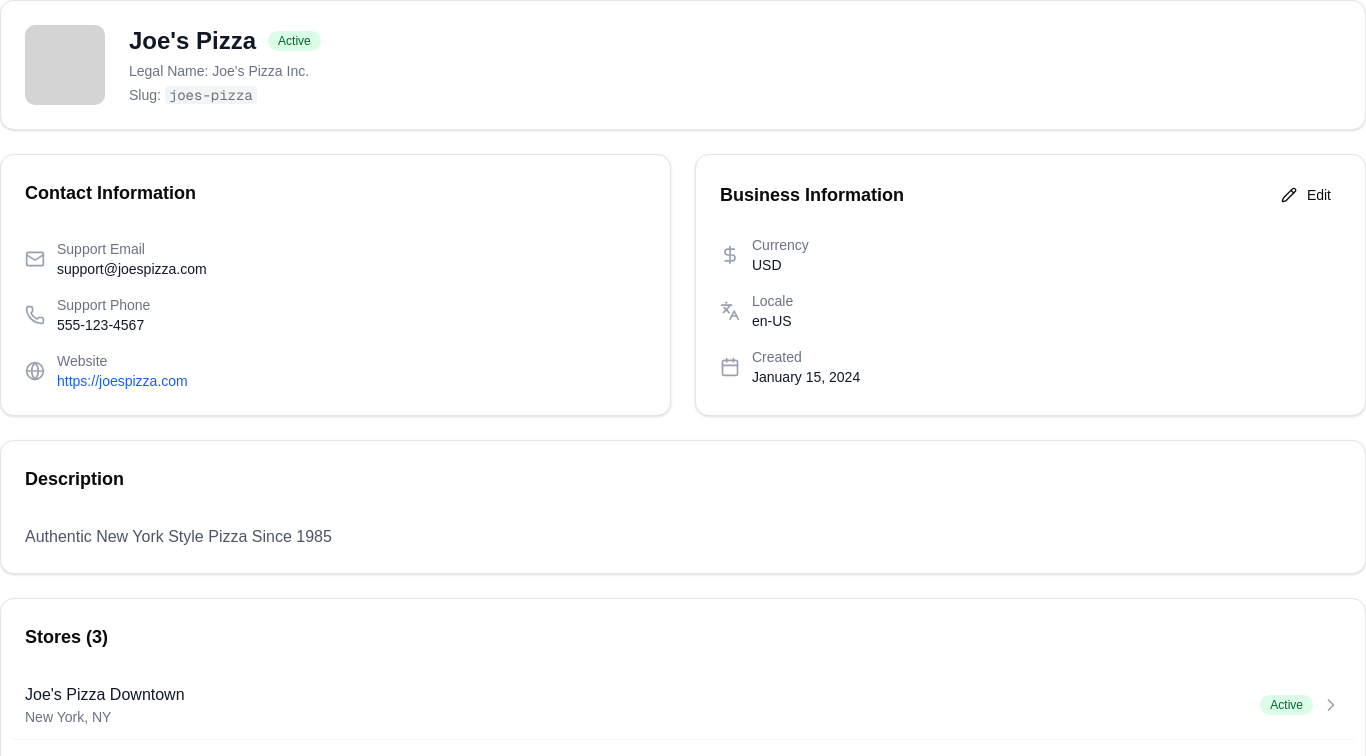
Scenario: TenantInfoCard › Edit Settings › should close settings modal when cancel is clicked
Step 1. Click the button "Edit" → (1306, 195), box [1271, 179, 1341, 211]
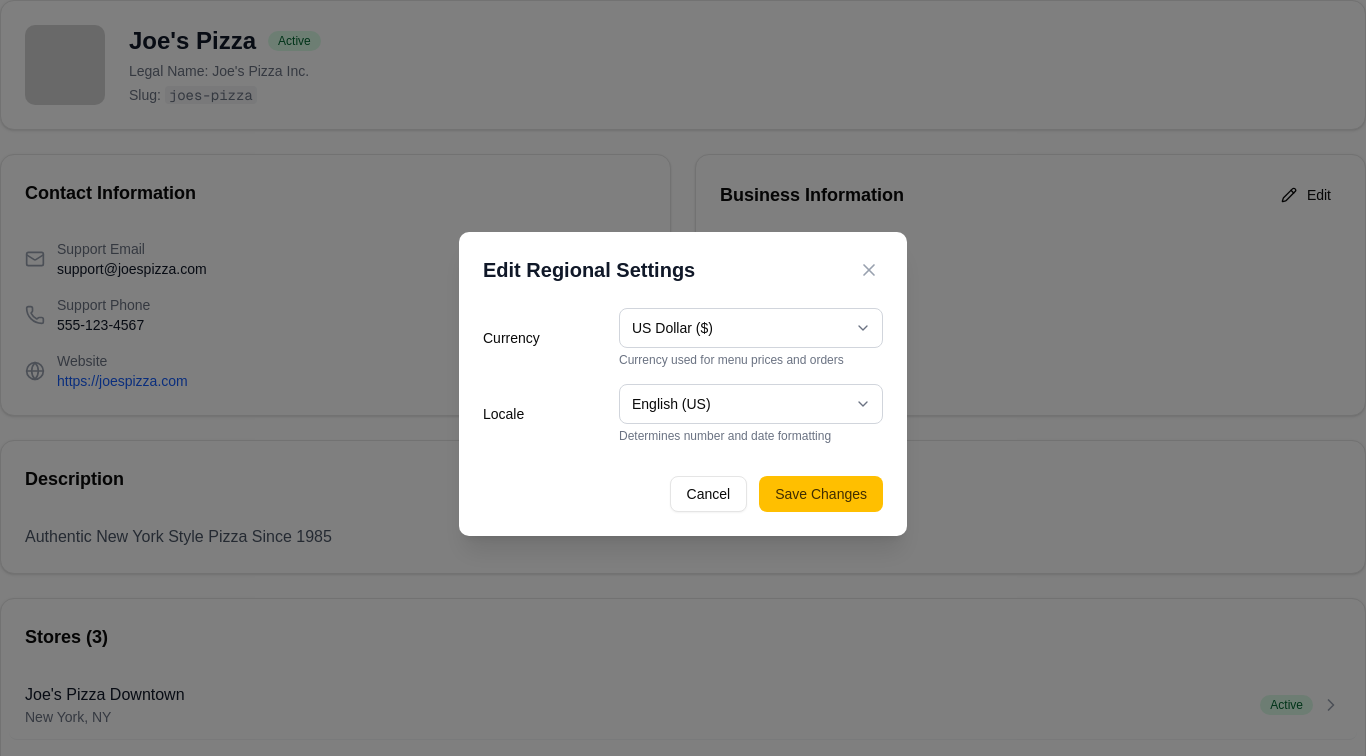
Step 2. Click the button "Cancel" → (708, 494), box [670, 476, 747, 512]
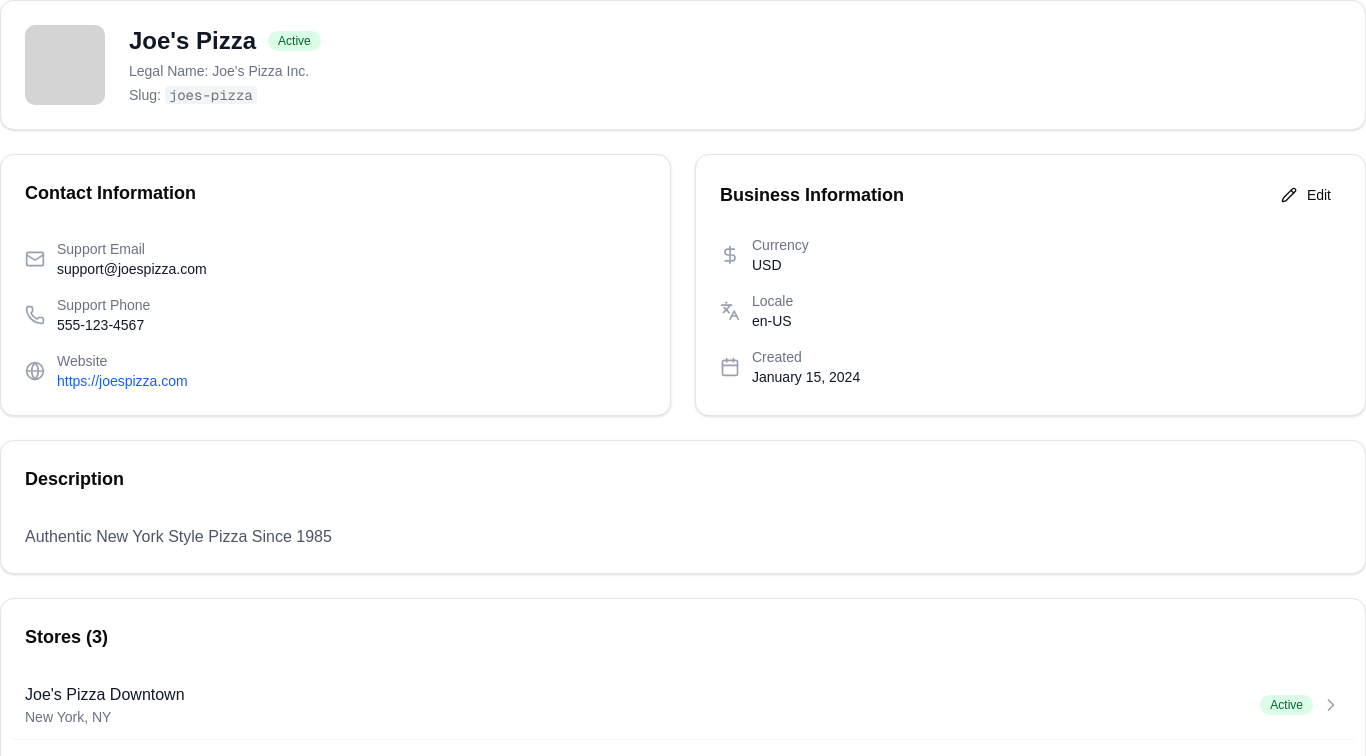
Check: the heading "Edit Regional Settings" is gone
